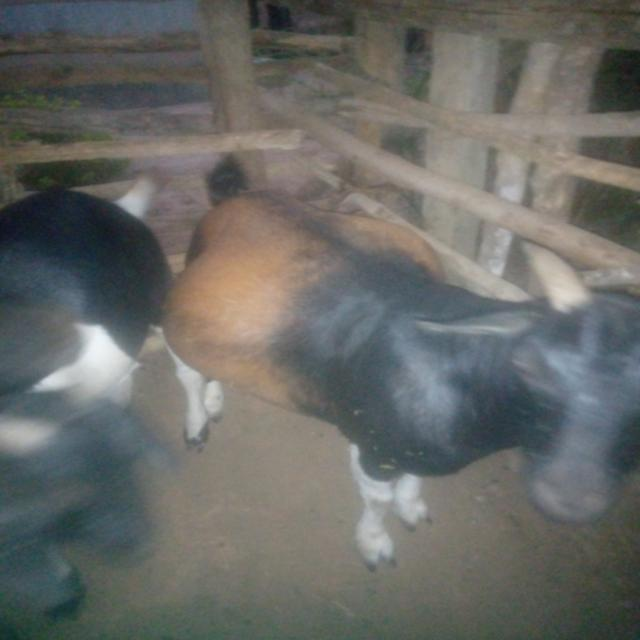goat: (103, 122, 640, 582)
